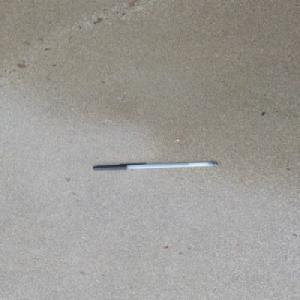Pen: (91, 161, 218, 170)
